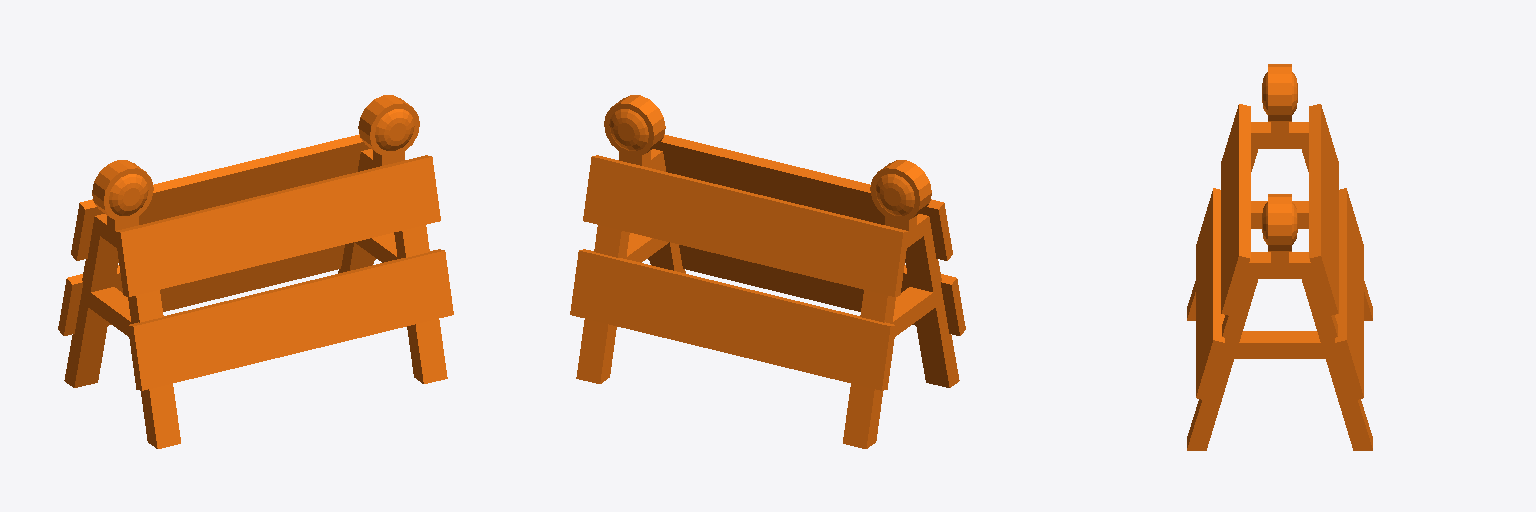
The model's file is Barrier.obj.
3 renders of one model, left to right at view 1: azimuth 30°, elevation 25°; view 2: azimuth 150°, elevation 25°; view 3: azimuth 270°, elevation 25°, orthographic.
Visible parts, largest first — view 1: Barrier; view 2: Barrier; view 3: Barrier.
Part boxes in pixels (x1,y1,x2,y2): Barrier: (58,95,453,448); Barrier: (570,95,965,448); Barrier: (1187,64,1372,450).
Bounding box in the file's own units: 2.38 × 1.78 × 1.21.